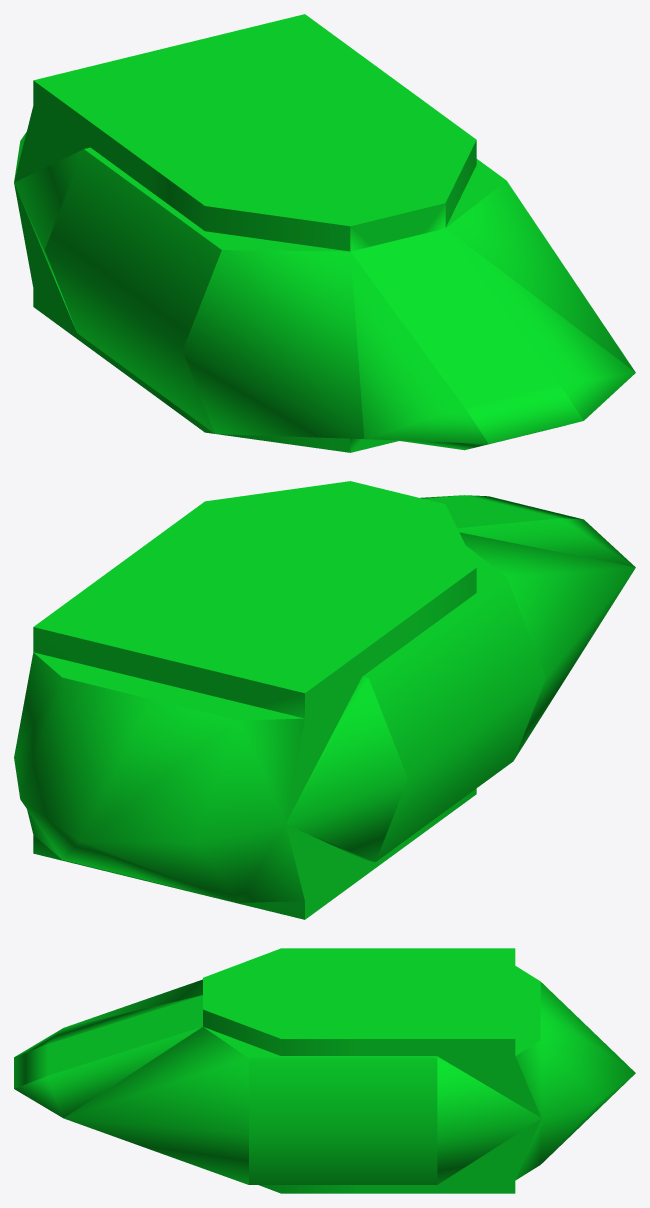
The model's file is car2.fbx.
3 views of the same model, one above another, from view 1: azimuth 30°, elevation 25°; view 2: azimuth 150°, elevation 25°; view 3: azimuth 270°, elevation 25° (orthographic). The views are drawn at different scales.
Visible parts, largest first — view 1: Box001; view 2: Box001; view 3: Box001.
Boxes of the visible parts, x1,y1,x2,y2 form: Box001: (14,14,635,452); Box001: (14,481,635,919); Box001: (14,948,635,1193).
Size of the model in its own units: 34.21 by 20.38 by 74.29.
